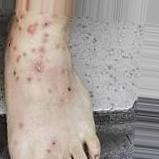Fleas: (34, 61, 46, 73), (63, 84, 76, 95), (30, 45, 45, 54), (40, 18, 50, 29), (15, 15, 22, 30), (27, 23, 37, 33), (49, 139, 59, 148), (12, 69, 19, 81), (61, 69, 71, 76), (6, 38, 12, 49), (42, 32, 48, 43), (44, 149, 52, 157), (54, 44, 63, 50), (15, 54, 21, 62), (26, 77, 32, 84), (48, 88, 54, 94), (22, 51, 27, 57), (18, 123, 24, 128)
